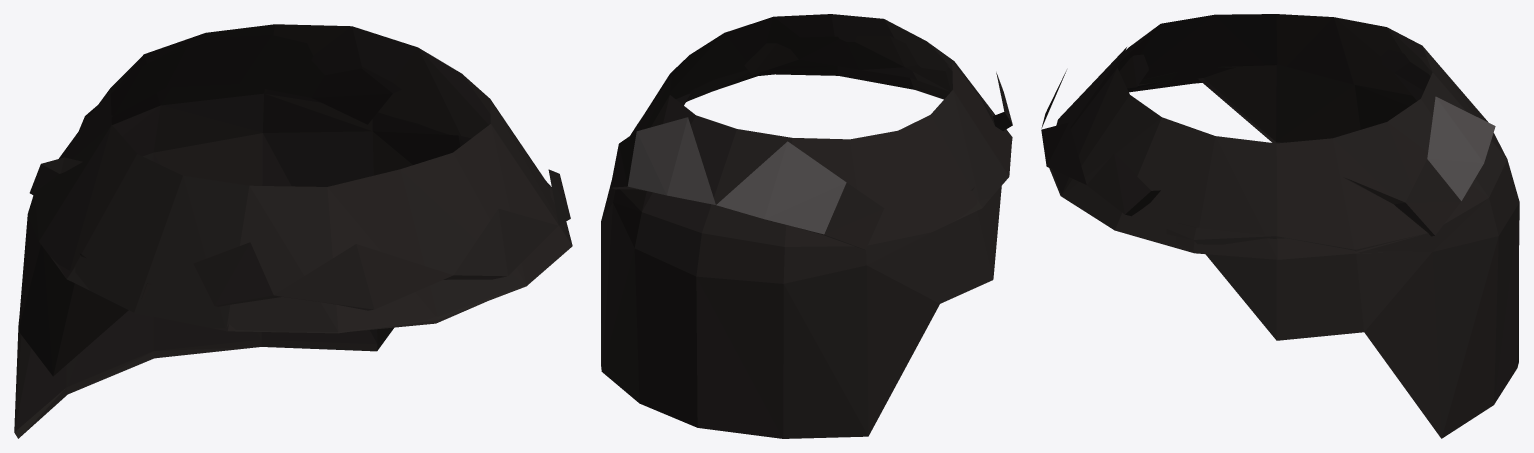
File: hair_undercut_01_hatcut.glb
The picture shows the model from 3 angles, left to right: view 1: azimuth 30°, elevation 25°; view 2: azimuth 150°, elevation 25°; view 3: azimuth 270°, elevation 25°; orthographic projection. The views are drawn at different scales.
Visible parts, largest first — view 1: hair_undercut_01_hatcut; view 2: hair_undercut_01_hatcut; view 3: hair_undercut_01_hatcut.
Boxes of the visible parts, x1,y1,x2,y2 form: hair_undercut_01_hatcut: (14,24,572,438); hair_undercut_01_hatcut: (601,14,1012,438); hair_undercut_01_hatcut: (1041,14,1519,438).
Size of the model in its own units: 0.2634 by 0.1899 by 0.2734.
Materials: 1 (1 with a texture image).
